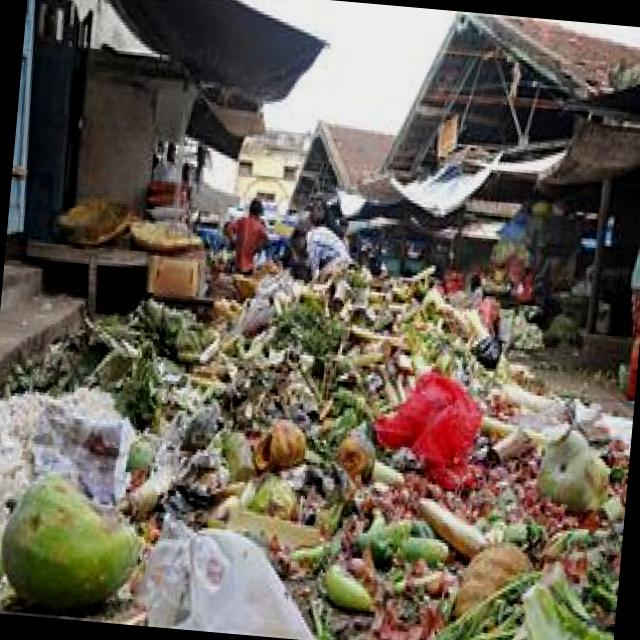garbage: (13, 251, 623, 640)
